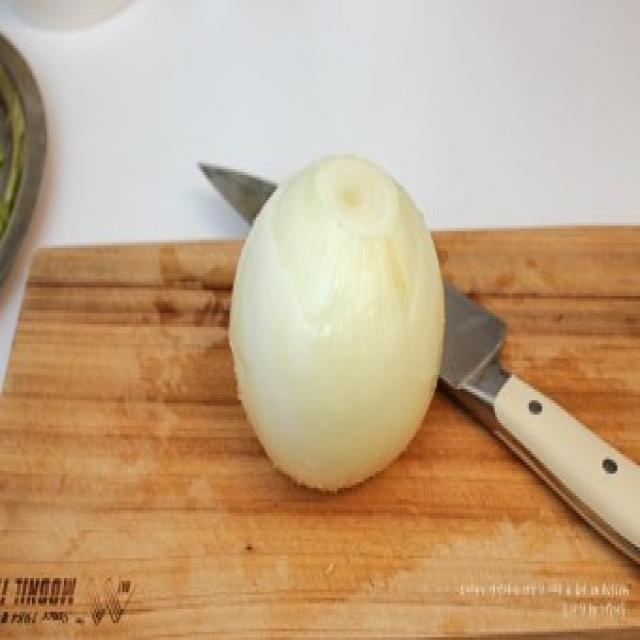onion: (217, 112, 455, 526)
